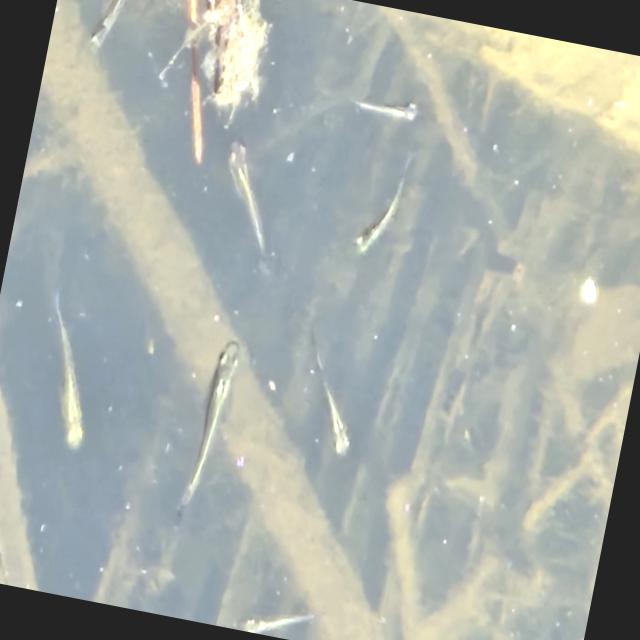Sivrisinek Baligi: (2, 264, 146, 474), (156, 332, 261, 538), (269, 323, 388, 488), (197, 132, 304, 274), (344, 159, 434, 273), (343, 67, 439, 142)
